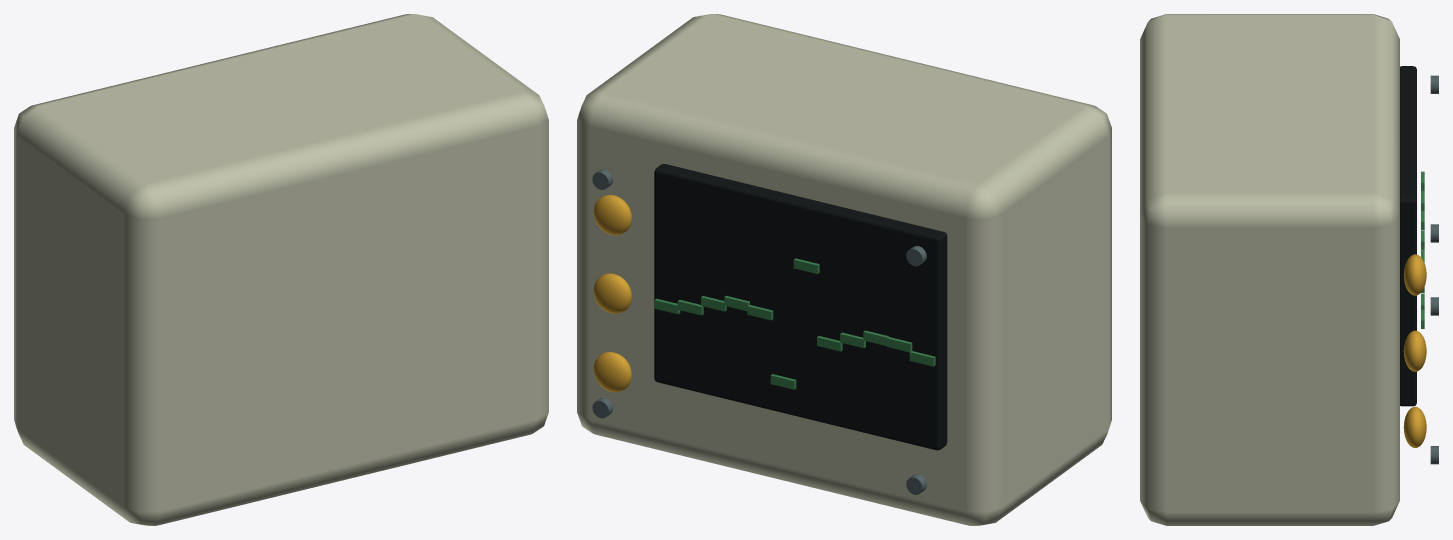
The model's file is Monitor.obj.
3 views of the same model, side by side, from view 1: azimuth 30°, elevation 25°; view 2: azimuth 150°, elevation 25°; view 3: azimuth 270°, elevation 25° (orthographic). The views are drawn at different scales.
Visible parts, largest first — view 1: Monitor; view 2: Monitor; view 3: Monitor.
Part boxes in pixels (x1=…): Monitor: x1=14, y1=14, x2=548, y2=525; Monitor: x1=577, y1=14, x2=1111, y2=525; Monitor: x1=1140, y1=14, x2=1438, y2=525.
Size of the model in its own units: 0.62 by 0.48 by 0.391.
